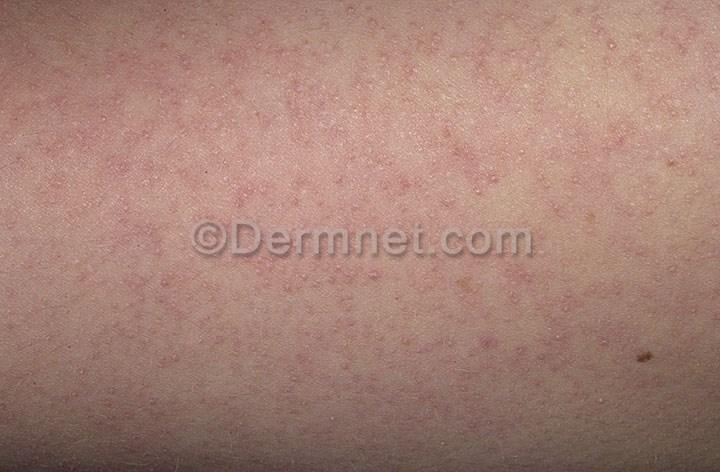edema 1: (0, 3, 716, 472)
